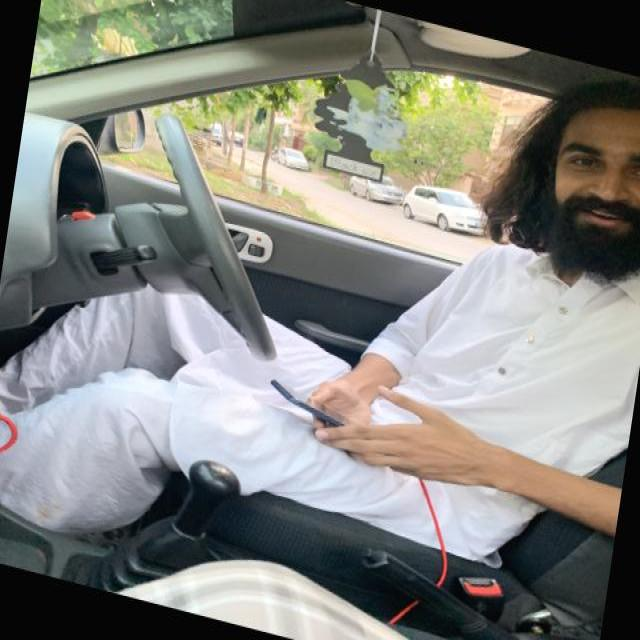no-seatbelt: (366, 201, 631, 513)
